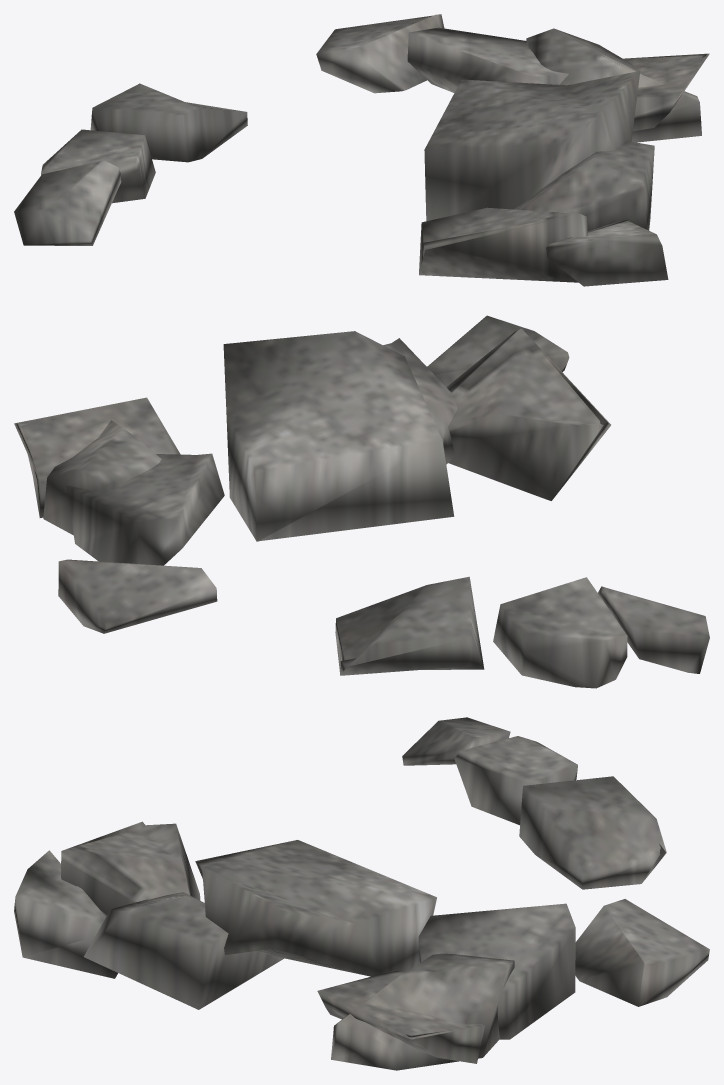
Rendered from rock_scree_03.glb.
The picture shows the model from 3 angles, top to bottom: view 1: azimuth 30°, elevation 25°; view 2: azimuth 150°, elevation 25°; view 3: azimuth 270°, elevation 25°; orthographic projection. The views are drawn at different scales.
Parts seen in each view (by area): view 1: rock_scree_03; view 2: rock_scree_03; view 3: rock_scree_03.
Boxes of the visible parts, bbox=[...] form: rock_scree_03: bbox=[14, 14, 709, 286]; rock_scree_03: bbox=[14, 315, 709, 688]; rock_scree_03: bbox=[14, 717, 709, 1070].
Size of the model in its own units: 0.9366 by 0.1522 by 0.8164.
1 material, 1 textured.
